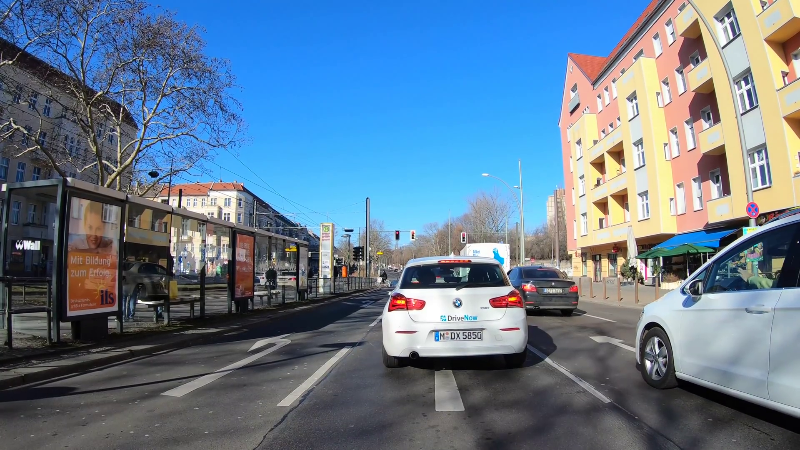Plate: (432, 329, 485, 343)
